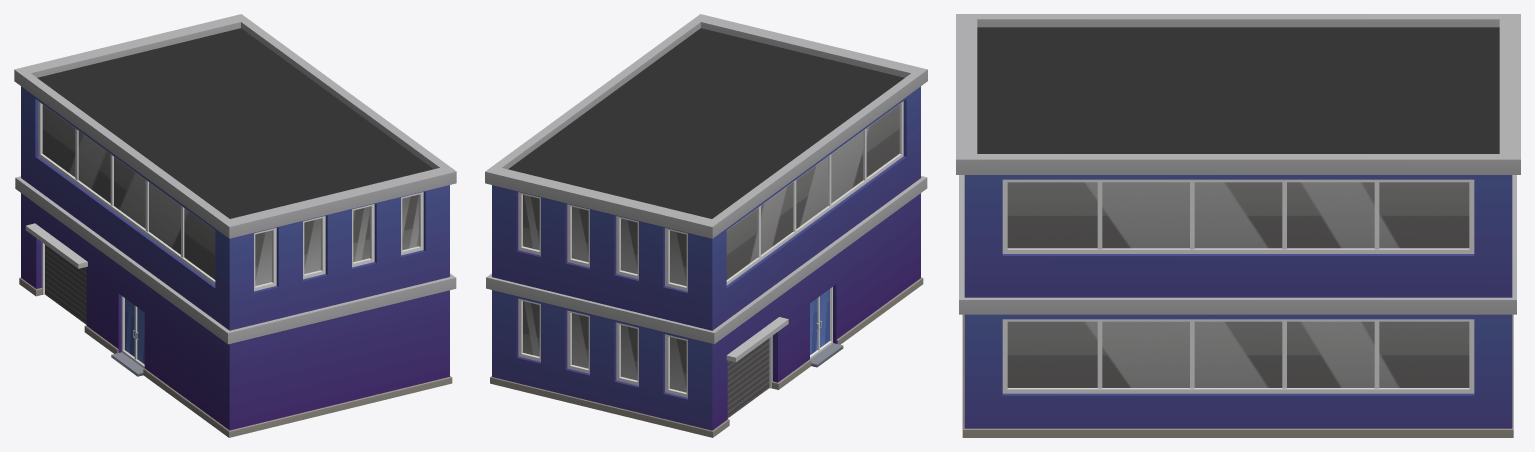
File: Building_Factory_1_C_001.fbx
3 views of the same model, side by side, from view 1: azimuth 30°, elevation 25°; view 2: azimuth 150°, elevation 25°; view 3: azimuth 270°, elevation 25° (orthographic). The views are drawn at different scales.
Parts seen in each view (by area): view 1: Building_Factory_1_C.001; view 2: Building_Factory_1_C.001; view 3: Building_Factory_1_C.001.
Boxes of the visible parts, left/top/right/bottom form: Building_Factory_1_C.001: left=14, top=14, right=456, bottom=437; Building_Factory_1_C.001: left=485, top=14, right=927, bottom=437; Building_Factory_1_C.001: left=956, top=14, right=1520, bottom=437.
Size of the model in its own units: 901 by 785 by 1437.
